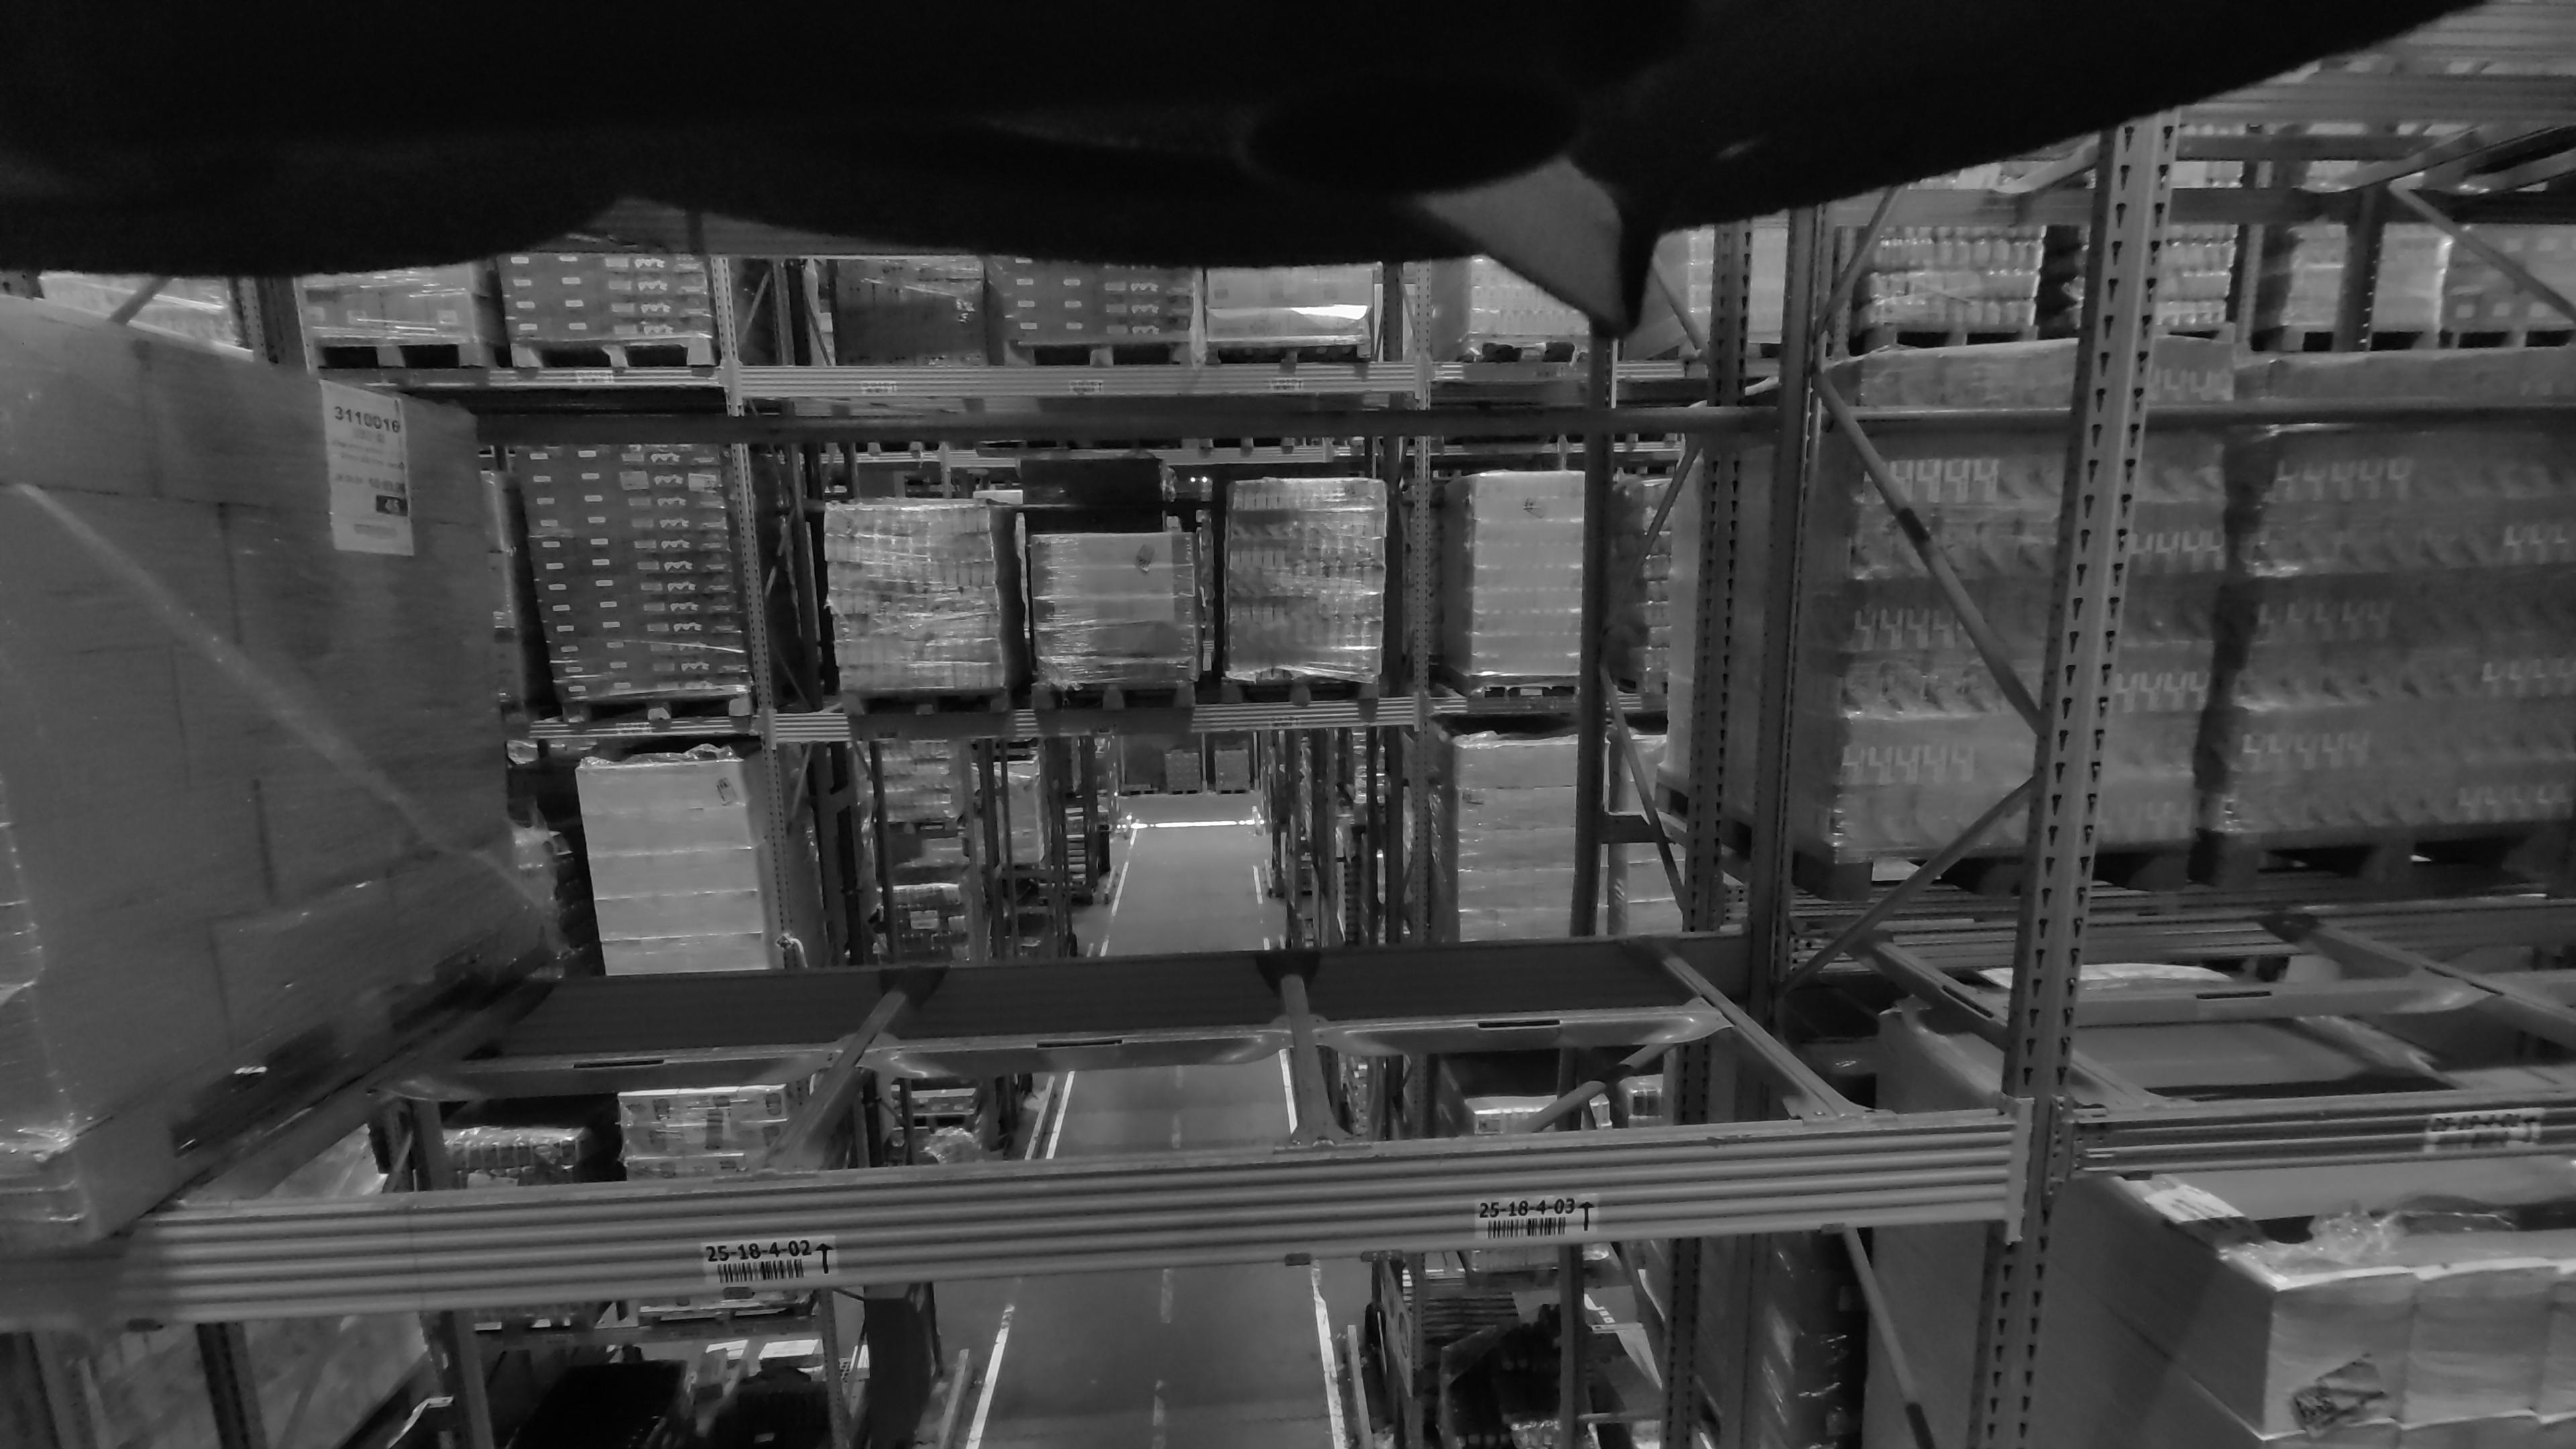empty-shelf: (290, 205, 1035, 1175), (1120, 228, 1872, 1122), (2118, 18, 2576, 1092)
